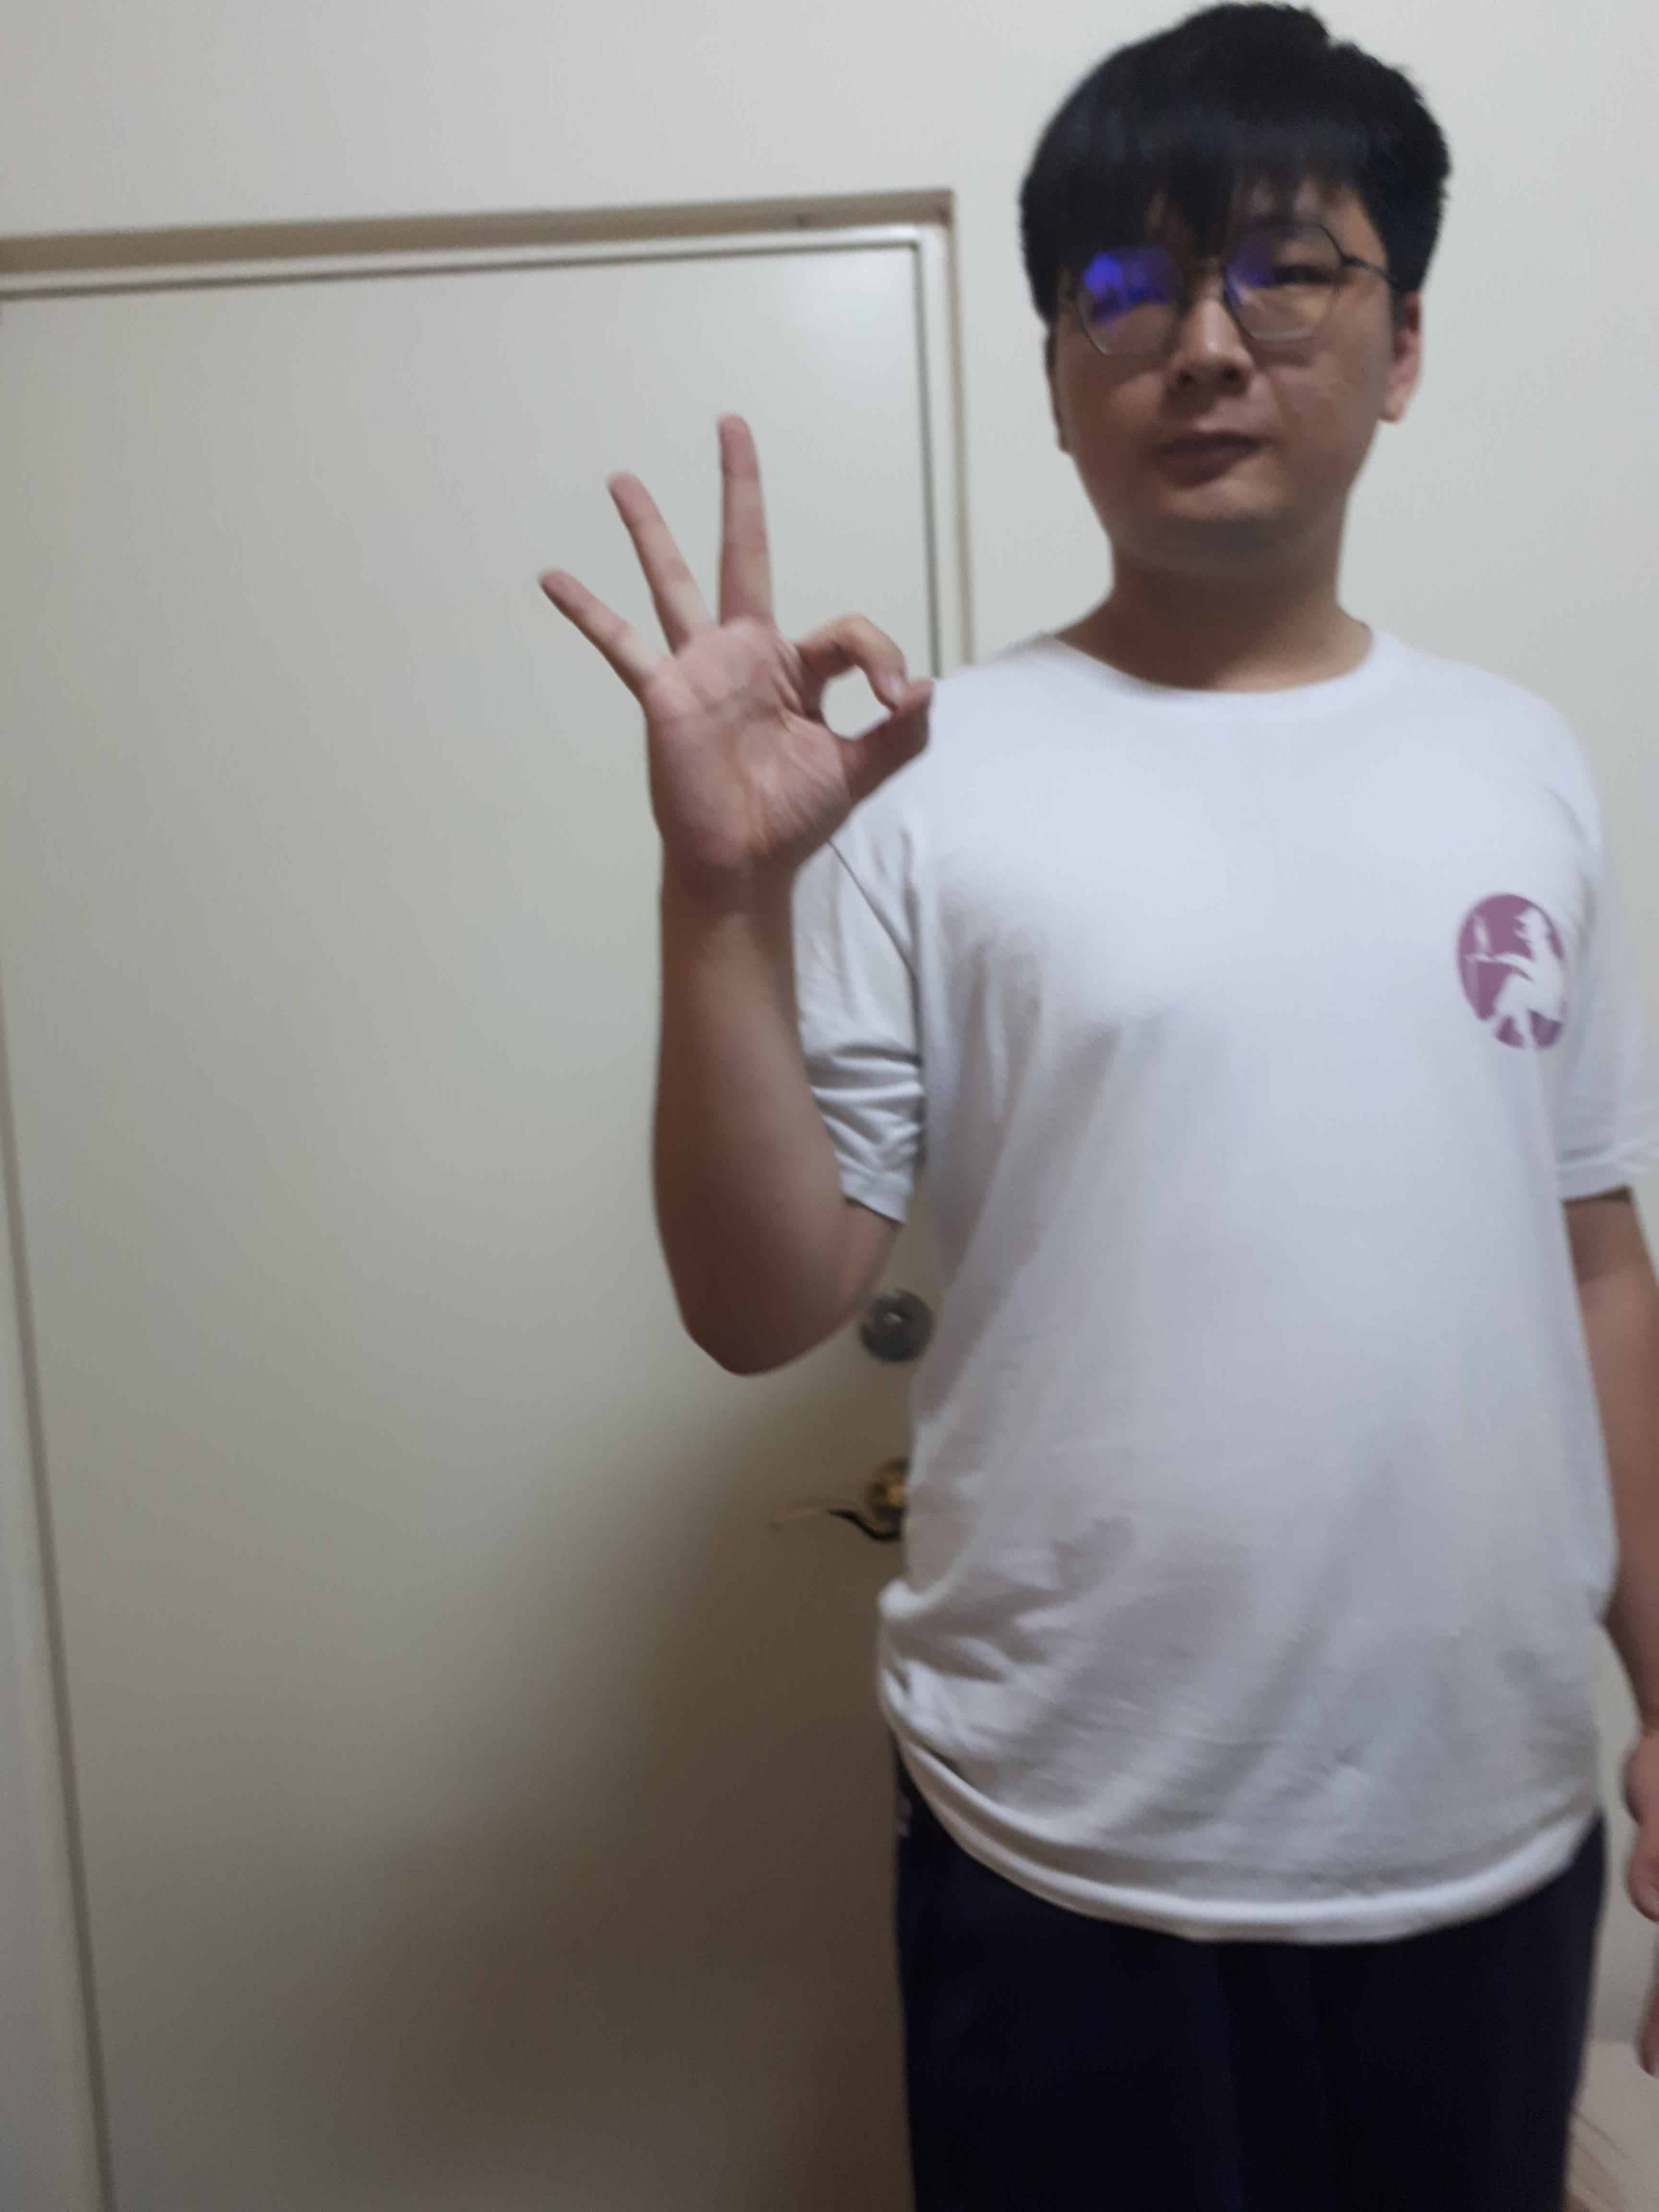ok: (504, 397, 948, 935)
